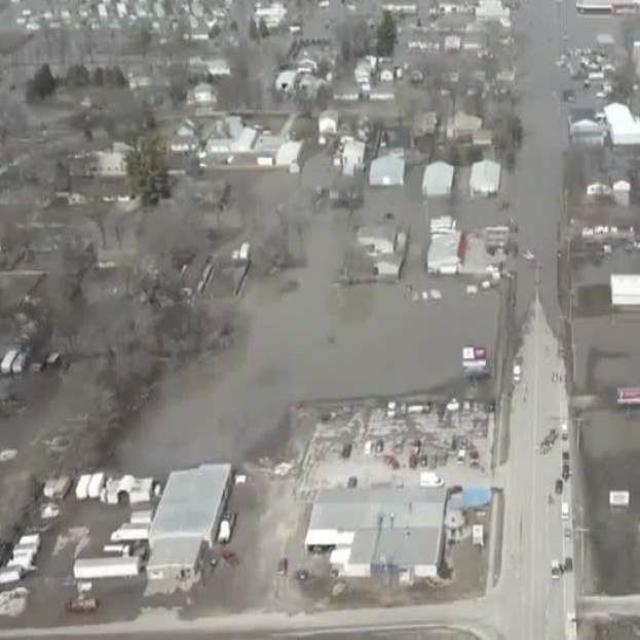flooded_areas: (0, 6, 630, 441)
